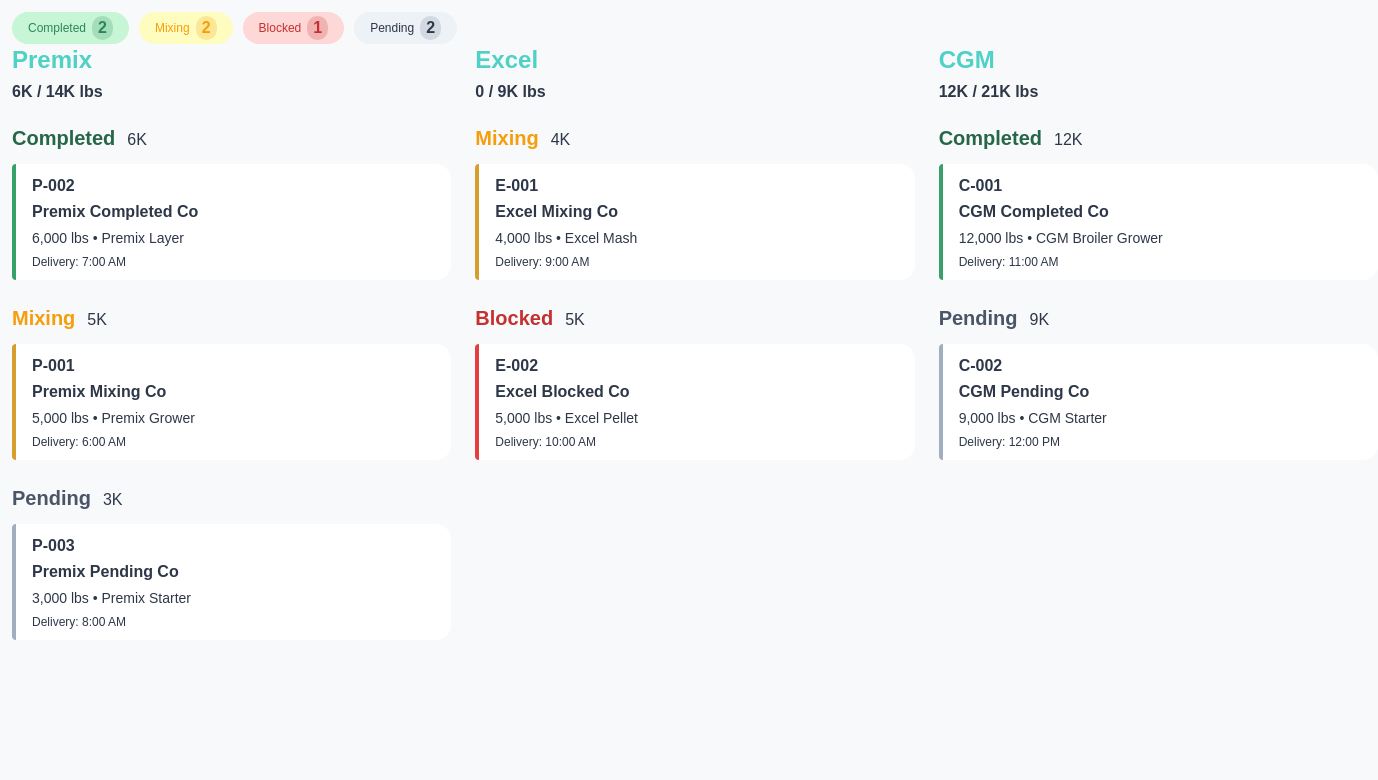
Test case: MillProductionUI › filter-pill clicks are cumulative and toggling the same pill twice clears it
Note: Click Mixing — only Mixing-state orders show.
Click the button with aria-label "Filter by Mixing" at x=186, y=28, box [139,12,232,44]
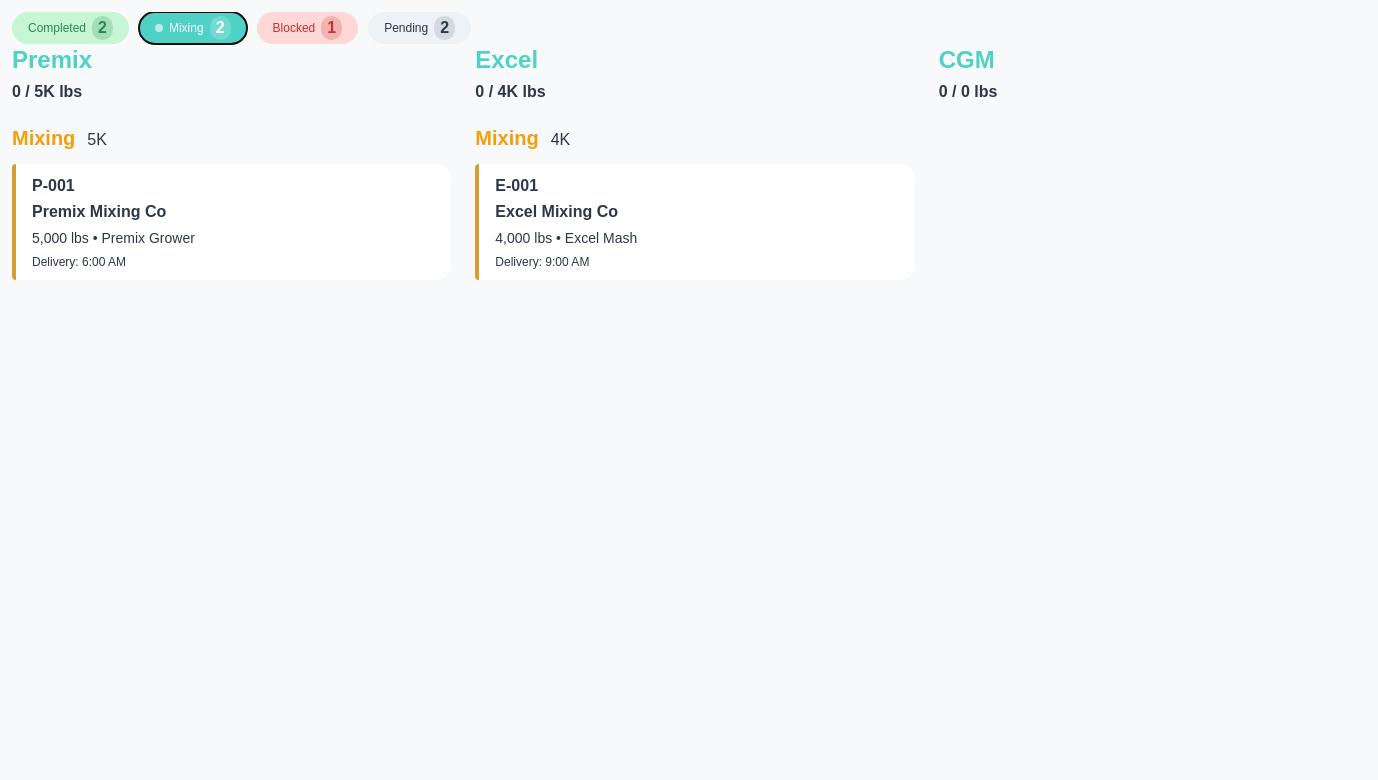
Now the text "Premix Completed Co" is gone
Note: Click Completed — now Mixing AND Completed orders show (cumulative).
Click the button with aria-label "Filter by Completed" at x=70, y=28, box [12,12,129,44]
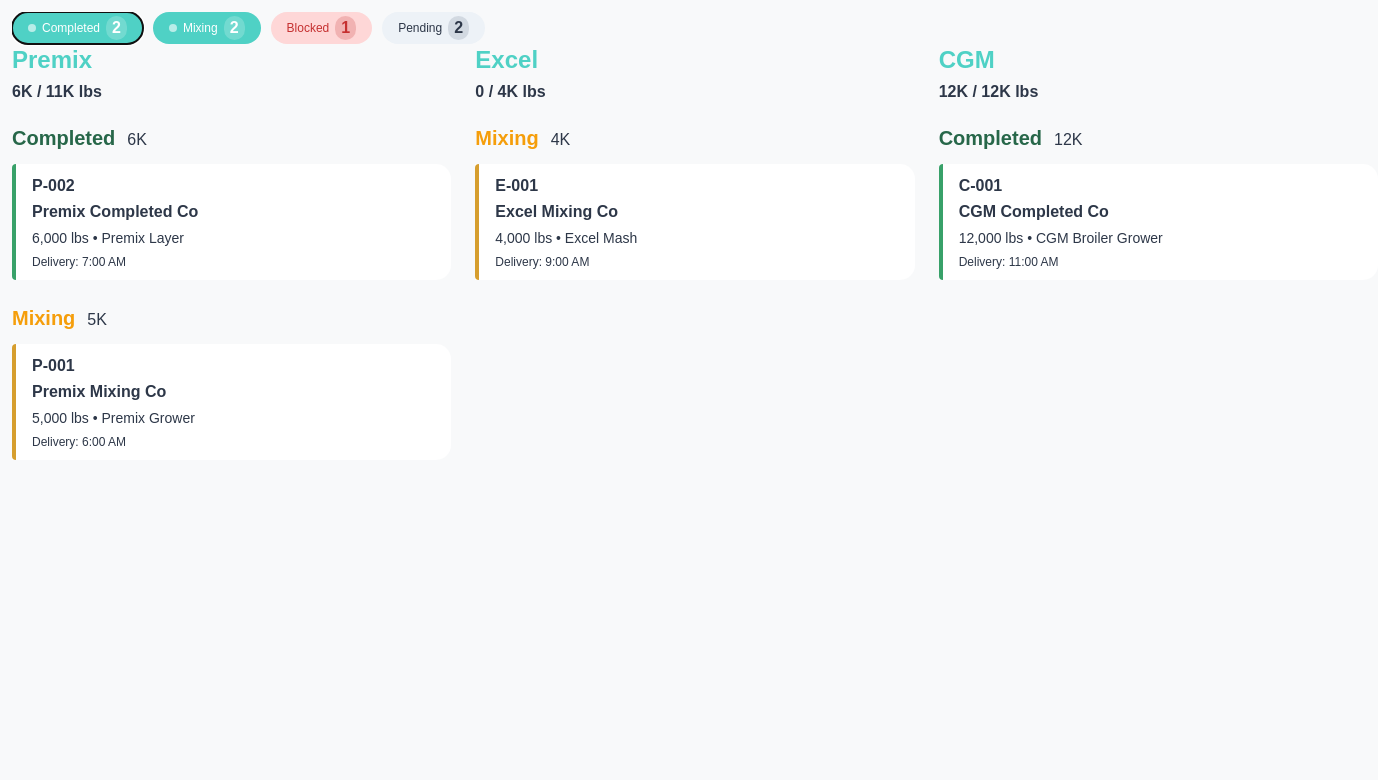
Expected: the text "Premix Mixing Co" is shown, [32,383,166,400]
Now the text "Premix Completed Co" is shown, box [32,203,198,220]
Click the button with aria-label "Filter by Mixing" at x=207, y=28, box [153,12,260,44]
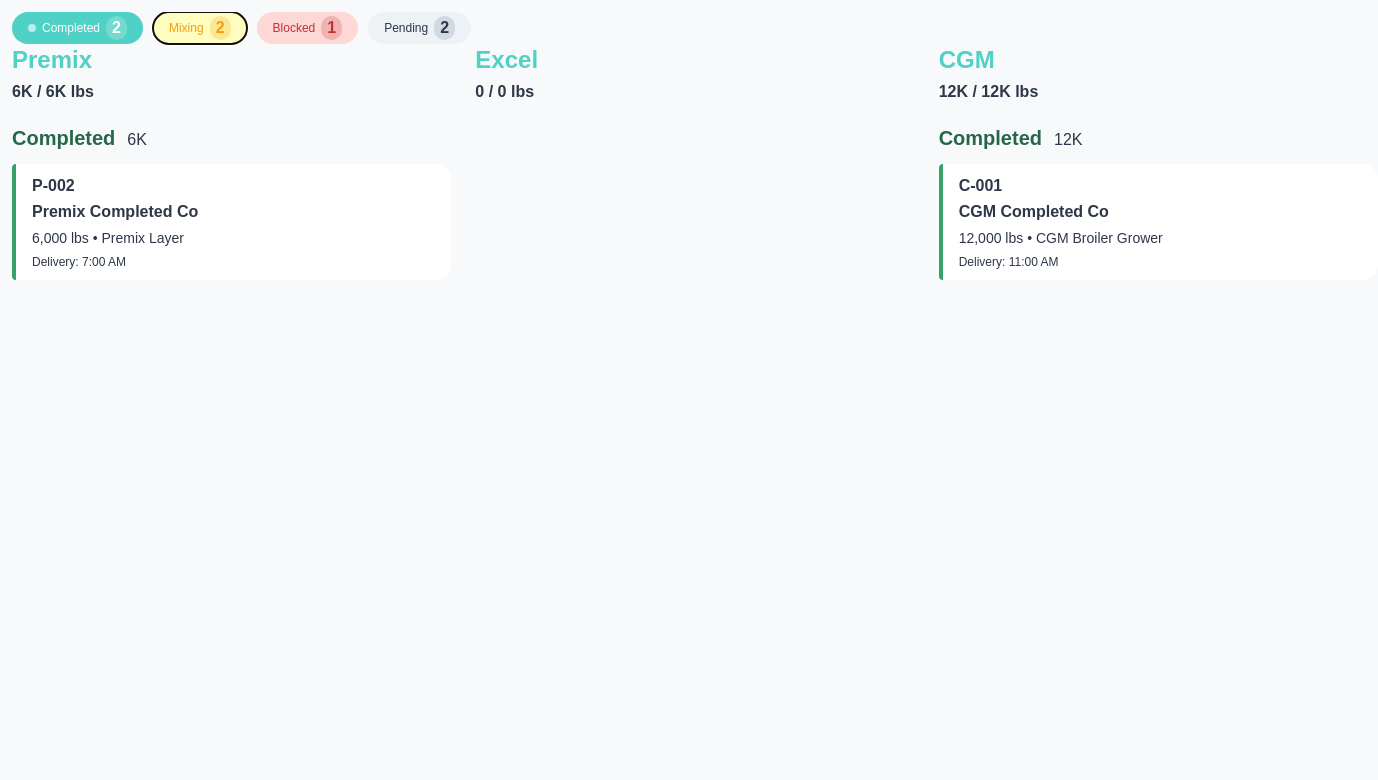
Now the text "Premix Completed Co" is shown, box [32,203,198,220]
Now the text "Premix Mixing Co" is gone
